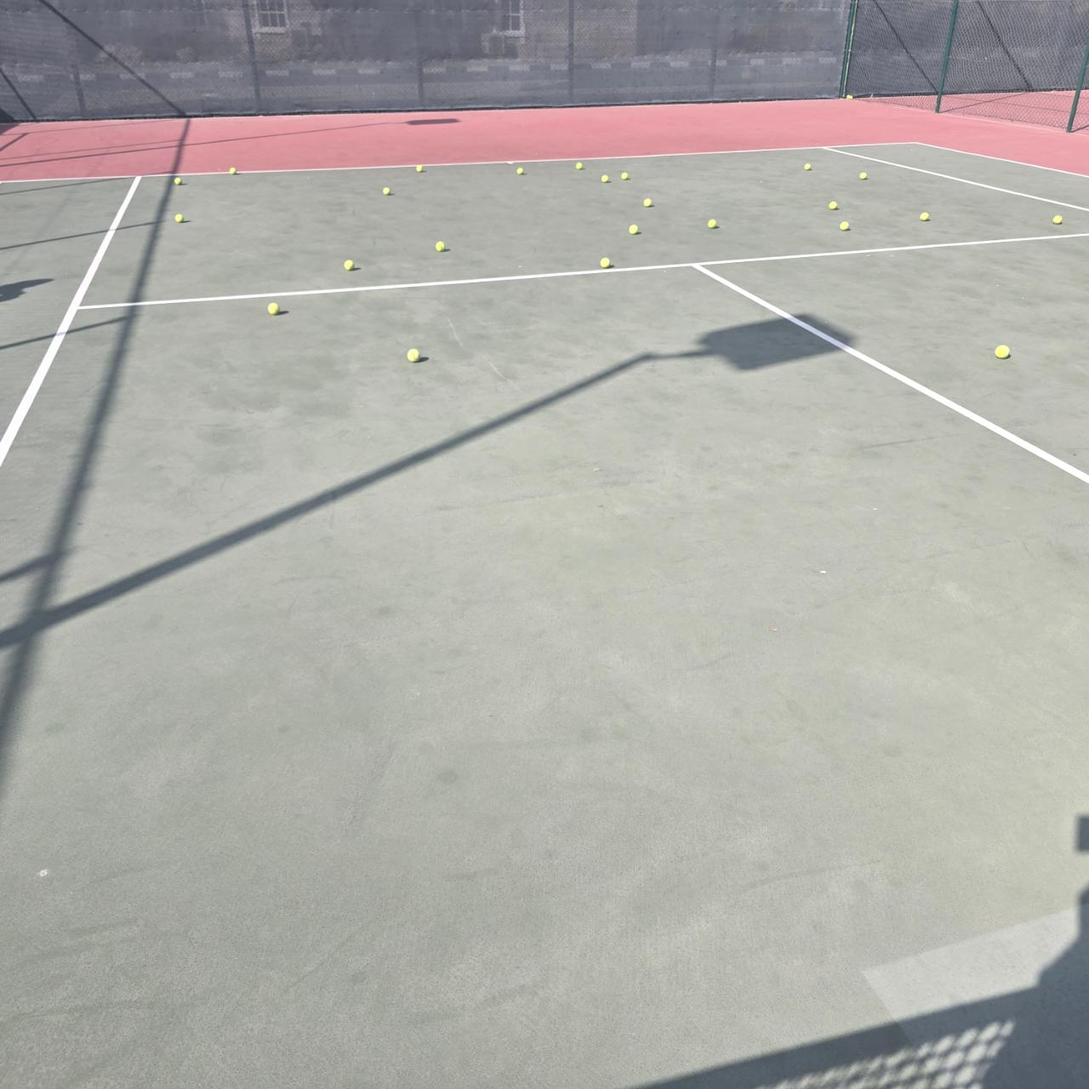tennis-ball: (995, 342, 1012, 359), (267, 300, 281, 315), (407, 348, 420, 362), (599, 257, 611, 269), (435, 240, 446, 252), (919, 211, 930, 222), (628, 224, 639, 235), (344, 259, 355, 270), (174, 213, 185, 224), (840, 220, 850, 231), (1052, 215, 1063, 225), (829, 200, 839, 210), (708, 218, 717, 229), (643, 198, 653, 207), (859, 171, 868, 180), (174, 177, 182, 186), (382, 187, 391, 195), (516, 167, 524, 176), (621, 172, 629, 181), (601, 174, 609, 183), (804, 163, 812, 171), (229, 167, 237, 175), (575, 162, 583, 170), (416, 165, 423, 173), (846, 94, 853, 100)
